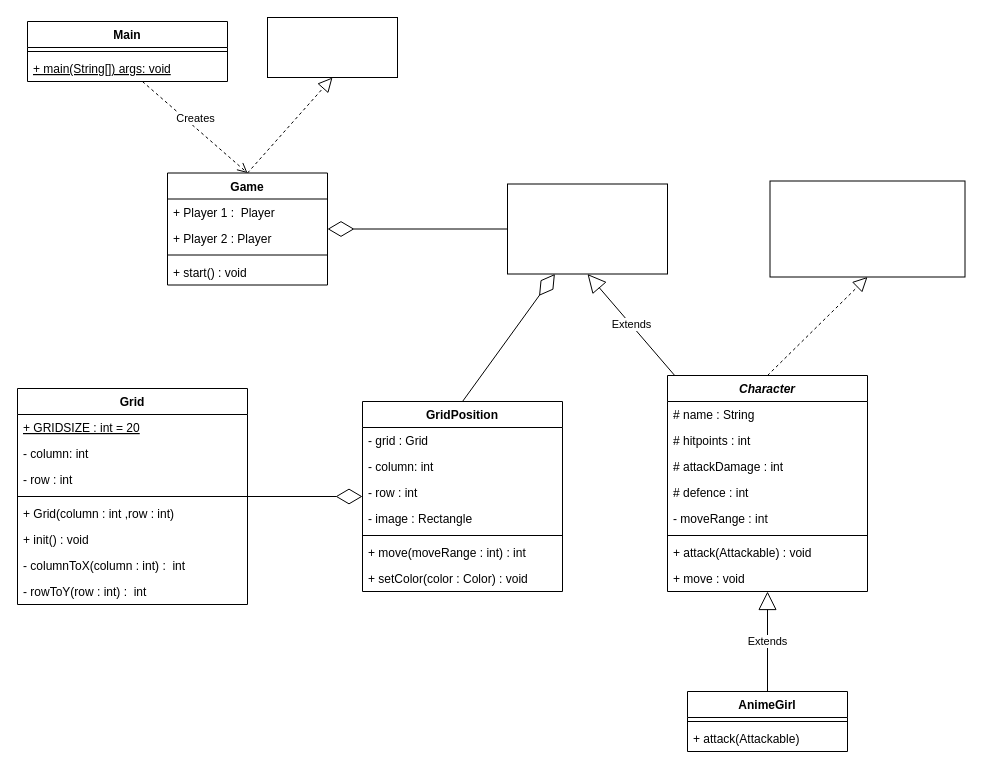
The diagram is 983 pixels wide and 772 high, and some of its shapes have lost their labels. Here are the shapes that lost their labels. From the top down, the centre of each, then its label:
At (332,47): "«interface» KeyboardHandler".
At (587,228): "GameObject # position: GridPosition + getPosition(): Position".
At (867,228): "<<Interface>> Attackable + getHit(int): void + isDestroyed : boolean".
